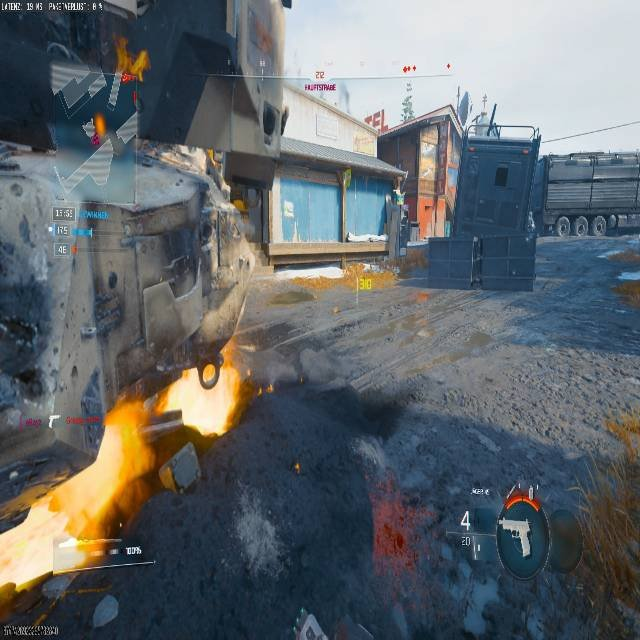player: (388, 191, 417, 253)
